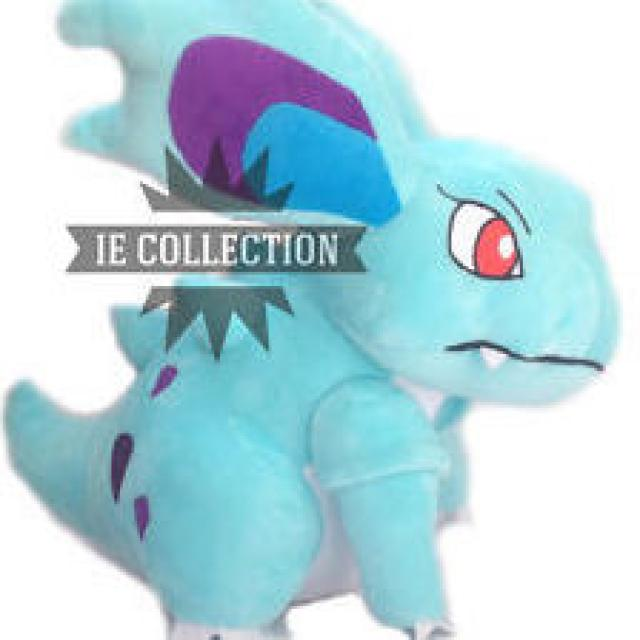Nidorina: (8, 0, 614, 640)
